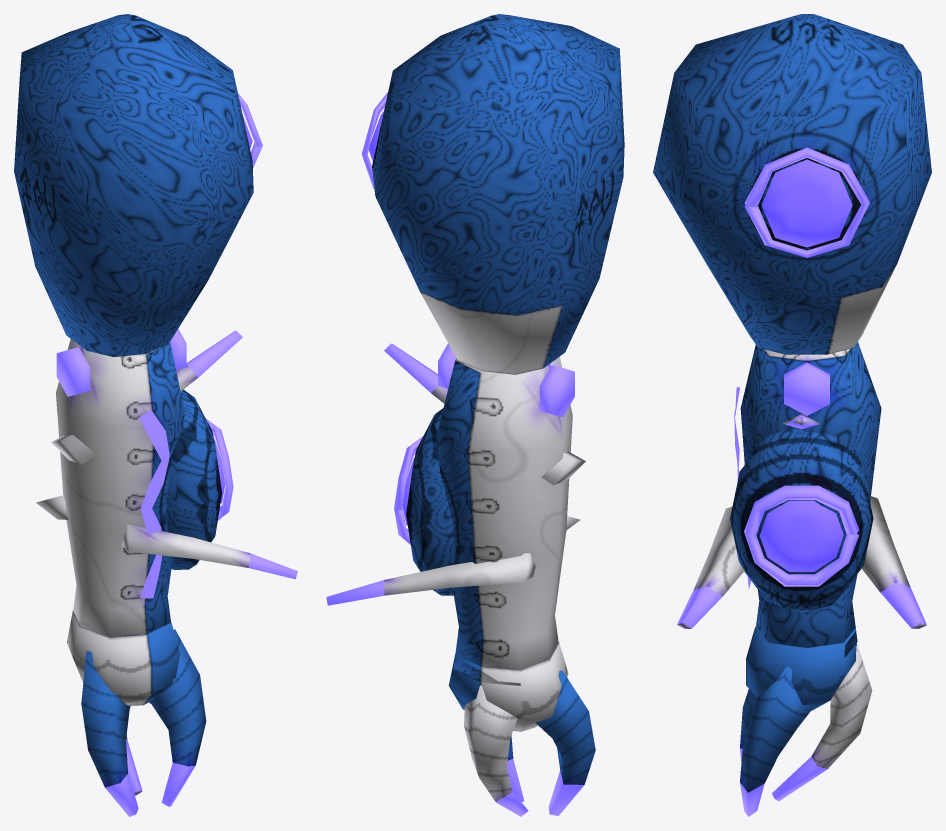
File: RightEnergyShieldArmZ.glb
3 renders of one model, left to right at view 1: azimuth 30°, elevation 25°; view 2: azimuth 150°, elevation 25°; view 3: azimuth 270°, elevation 25°, orthographic. The views are drawn at different scales.
Parts seen in each view (by area): view 1: RightEnergyShieldArmZ_Upper, RightEnergyShieldArmZ_Fore, RightEnergyShieldArmZ_Fist; view 2: RightEnergyShieldArmZ_Upper, RightEnergyShieldArmZ_Fore, RightEnergyShieldArmZ_Fist; view 3: RightEnergyShieldArmZ_Upper, RightEnergyShieldArmZ_Fore, RightEnergyShieldArmZ_Fist.
Boxes of the visible parts, x1,y1,x2,y2 form: RightEnergyShieldArmZ_Upper: (14,14,262,357); RightEnergyShieldArmZ_Fore: (36,329,297,637); RightEnergyShieldArmZ_Fist: (67,611,206,816); RightEnergyShieldArmZ_Upper: (361,14,624,374); RightEnergyShieldArmZ_Fore: (326,343,585,685); RightEnergyShieldArmZ_Fist: (448,642,595,816); RightEnergyShieldArmZ_Upper: (653,14,931,354); RightEnergyShieldArmZ_Fore: (677,342,926,657); RightEnergyShieldArmZ_Fist: (740,627,872,816).
Size of the model in its own units: 4.53 by 16.37 by 5.25.
5 materials, 3 textured.
